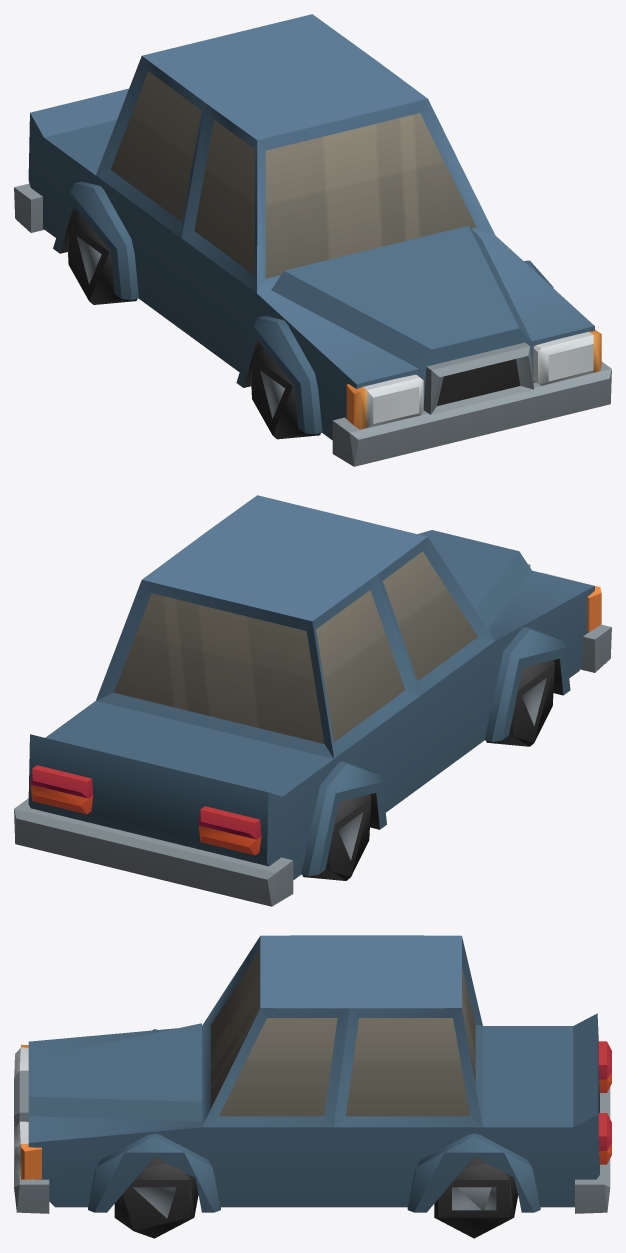
Rendered from cc0-car-sedan-lod1.glb.
3 views of the same model, one above another, from view 1: azimuth 30°, elevation 25°; view 2: azimuth 150°, elevation 25°; view 3: azimuth 270°, elevation 25° (orthographic). The views are drawn at different scales.
Visible parts, largest first — view 1: part_0; view 2: part_0; view 3: part_0.
Boxes of the visible parts, x1,y1,x2,y2 form: part_0: (14,14,611,466); part_0: (14,495,611,906); part_0: (14,935,611,1238).
Bounding box in the file's own units: 0.419 × 0.3688 × 0.9381.
1 material, 1 textured.
